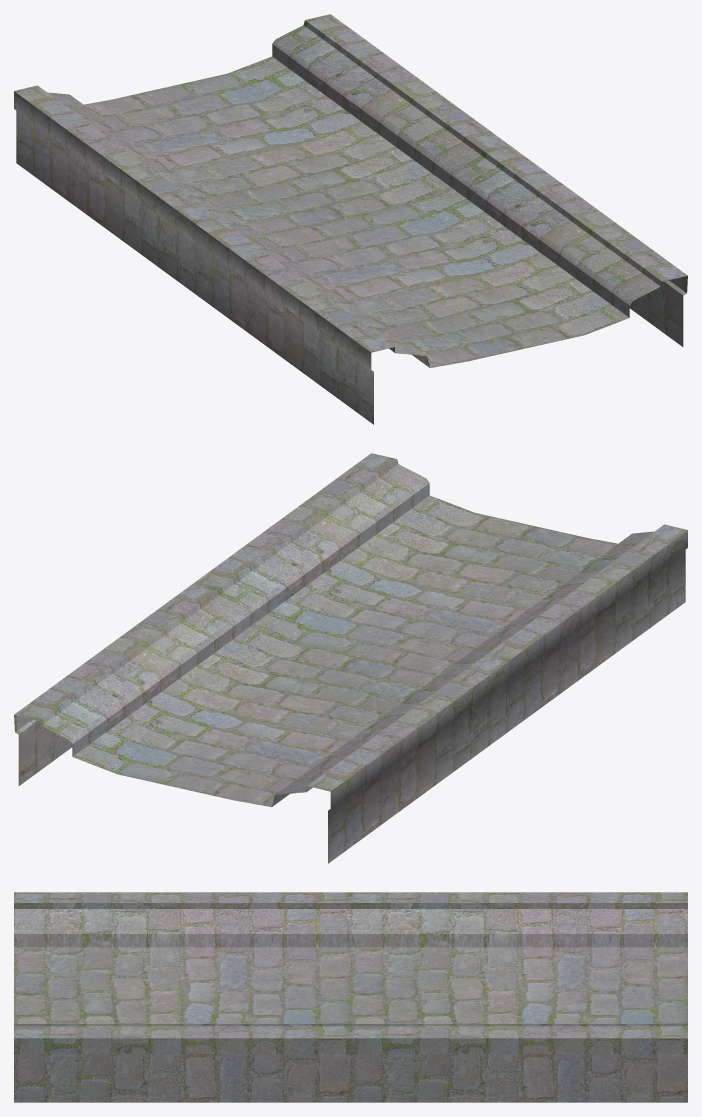
File: SM_path_stone_01_lod.fbx
3 renders of one model, top to bottom at view 1: azimuth 30°, elevation 25°; view 2: azimuth 150°, elevation 25°; view 3: azimuth 270°, elevation 25°, orthographic. The views are drawn at different scales.
Visible parts, largest first — view 1: Path_01_collider; view 2: Path_01_collider; view 3: Path_01_collider.
Boxes of the visible parts, x1,y1,x2,y2 form: Path_01_collider: (14, 14, 687, 424); Path_01_collider: (14, 453, 687, 863); Path_01_collider: (14, 892, 687, 1102).
Bounding box in the file's own units: 201 × 44.22 × 394.
